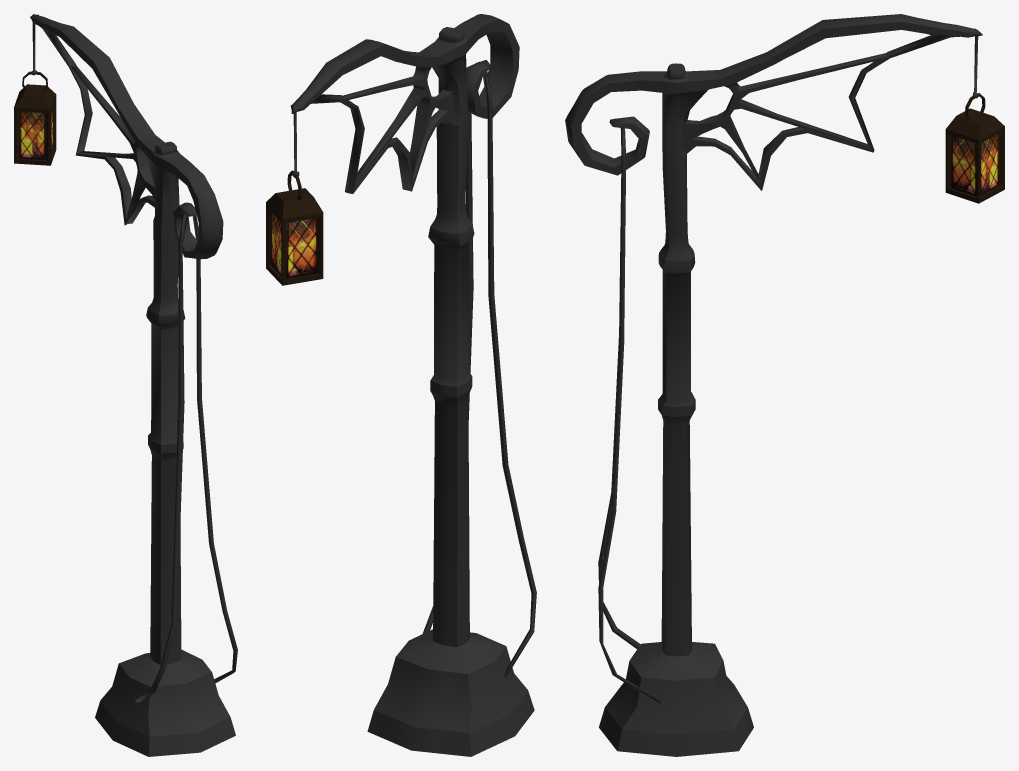
Rendered from Lamppost_Model.fbx.
3 views of the same model, side by side, from view 1: azimuth 30°, elevation 25°; view 2: azimuth 150°, elevation 25°; view 3: azimuth 270°, elevation 25° (orthographic). The views are drawn at different scales.
Visible parts, largest first — view 1: Cube, Lantern; view 2: Cube, Lantern; view 3: Cube, Lantern.
Part boxes in pixels (x1,y1,x2,y2): Cube: (30, 14, 237, 756); Lantern: (14, 71, 56, 165); Cube: (290, 14, 536, 756); Lantern: (266, 170, 323, 285); Cube: (565, 14, 982, 756); Lantern: (945, 93, 1004, 203).
Size of the model in its own units: 290 by 1633 by 915.
